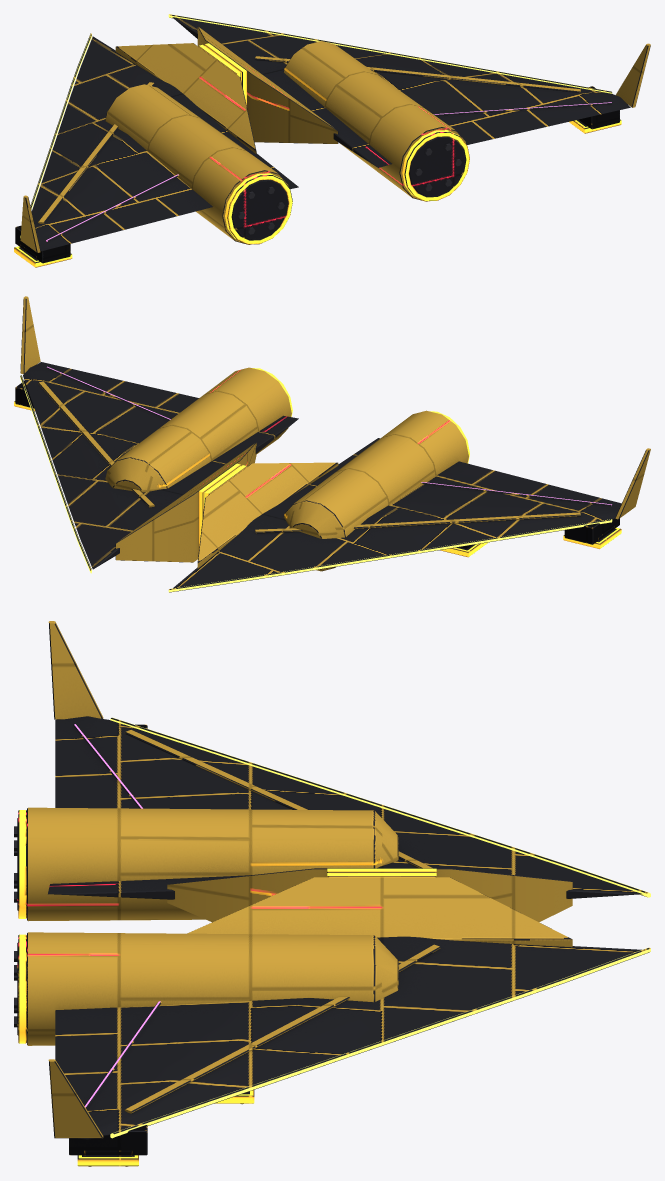
Rendered from ala_delta_t4.fbx.
3 views of the same model, one above another, from view 1: azimuth 30°, elevation 25°; view 2: azimuth 150°, elevation 25°; view 3: azimuth 270°, elevation 25° (orthographic). The views are drawn at different scales.
Visible parts, largest first — view 1: ala_delta_t4_izq, ala_delta_t4_der, ala_delta_t4_der_neon, ala_delta_t4_izq_neon; view 2: ala_delta_t4_izq, ala_delta_t4_der, ala_delta_t4_izq_neon, ala_delta_t4_der_neon; view 3: ala_delta_t4_der, ala_delta_t4_izq, ala_delta_t4_der_neon, ala_delta_t4_izq_neon.
Part boxes in pixels (x1,y1,x2,y2): ala_delta_t4_izq: [14, 33, 298, 267]; ala_delta_t4_der: [169, 14, 650, 201]; ala_delta_t4_der_neon: [168, 14, 612, 93]; ala_delta_t4_izq_neon: [20, 33, 91, 237]; ala_delta_t4_izq: [169, 410, 650, 592]; ala_delta_t4_der: [14, 296, 298, 570]; ala_delta_t4_izq_neon: [168, 519, 612, 592]; ala_delta_t4_der_neon: [20, 375, 91, 573]; ala_delta_t4_der: [14, 873, 650, 1166]; ala_delta_t4_izq: [14, 621, 647, 922]; ala_delta_t4_der_neon: [110, 947, 650, 1138]; ala_delta_t4_izq_neon: [110, 717, 650, 897].
Bounding box in the file's own units: 15.26 × 2.21 × 9.33.
